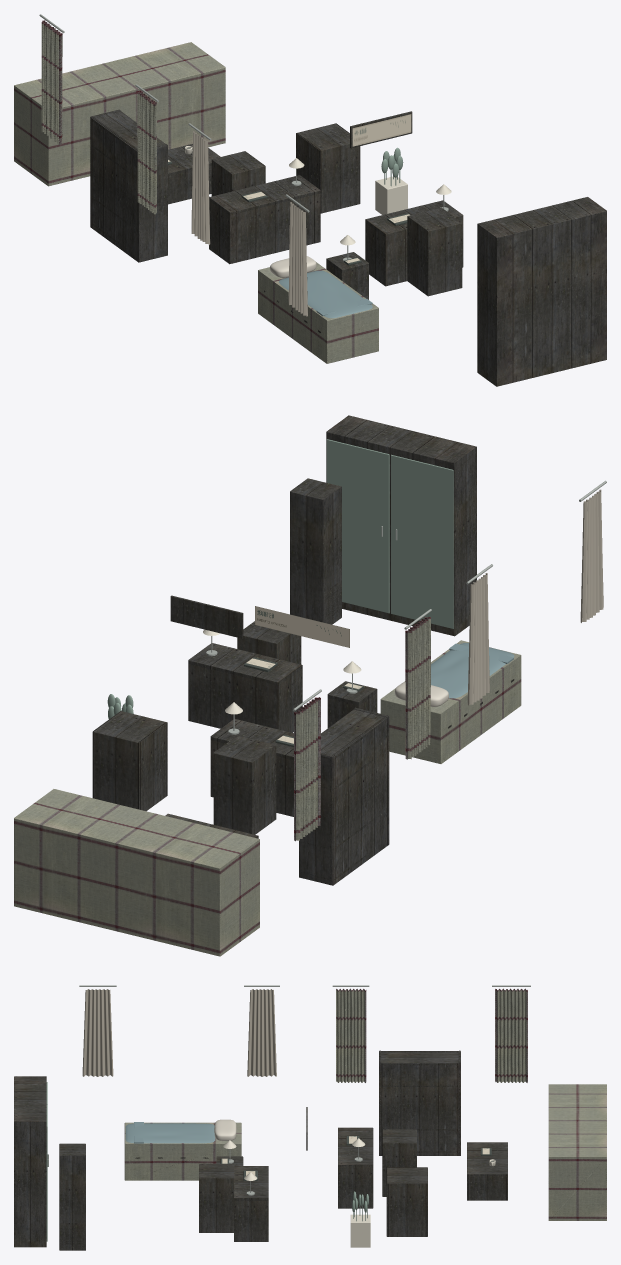
File: home-lobby-fittings.glb
The picture shows the model from 3 angles, top to bottom: view 1: azimuth 30°, elevation 25°; view 2: azimuth 150°, elevation 25°; view 3: azimuth 270°, elevation 25°; orthographic projection. The views are drawn at different scales.
Visible parts, largest first — view 1: home-far-0, home-far-4, home-core-0, home-core-4, home-core-10, home-core-9, home-core-7, home-far-2, home-core-1; view 2: home-far-0, home-far-4, home-core-1, home-core-0, home-core-4, home-core-10, home-core-7, home-core-9; view 3: home-far-0, home-far-4, home-core-0, home-core-4, home-core-10, home-core-9, home-far-2, home-core-1, home-core-8, home-core-3.
Boxes of the visible parts, x1,y1,x2,y2 form: home-far-0: [90, 111, 606, 386]; home-far-4: [14, 42, 378, 363]; home-core-0: [90, 109, 496, 380]; home-core-4: [41, 20, 156, 214]; home-core-10: [191, 131, 307, 316]; home-core-9: [279, 270, 372, 318]; home-core-7: [168, 114, 411, 263]; home-far-2: [375, 176, 407, 214]; home-core-1: [381, 147, 403, 186]; home-far-0: [92, 415, 476, 885]; home-far-4: [14, 640, 521, 956]; home-core-1: [107, 439, 453, 718]; home-core-0: [157, 454, 514, 881]; home-core-4: [294, 617, 430, 841]; home-core-10: [467, 489, 603, 705]; home-core-7: [246, 606, 362, 743]; home-core-9: [431, 643, 514, 698]; home-far-0: [14, 1052, 507, 1250]; home-far-4: [124, 1084, 606, 1220]; home-core-0: [15, 1050, 507, 1250]; home-core-4: [336, 988, 527, 1082]; home-core-10: [82, 989, 276, 1076]; home-core-9: [125, 1123, 215, 1143]; home-far-2: [350, 1214, 370, 1247]; home-core-1: [46, 1082, 368, 1241]; home-core-8: [214, 1119, 236, 1140]; home-core-3: [79, 985, 530, 1195].
Size of the model in its own units: 4.16 by 2.71 by 9.39.
10 materials, 3 textured.
